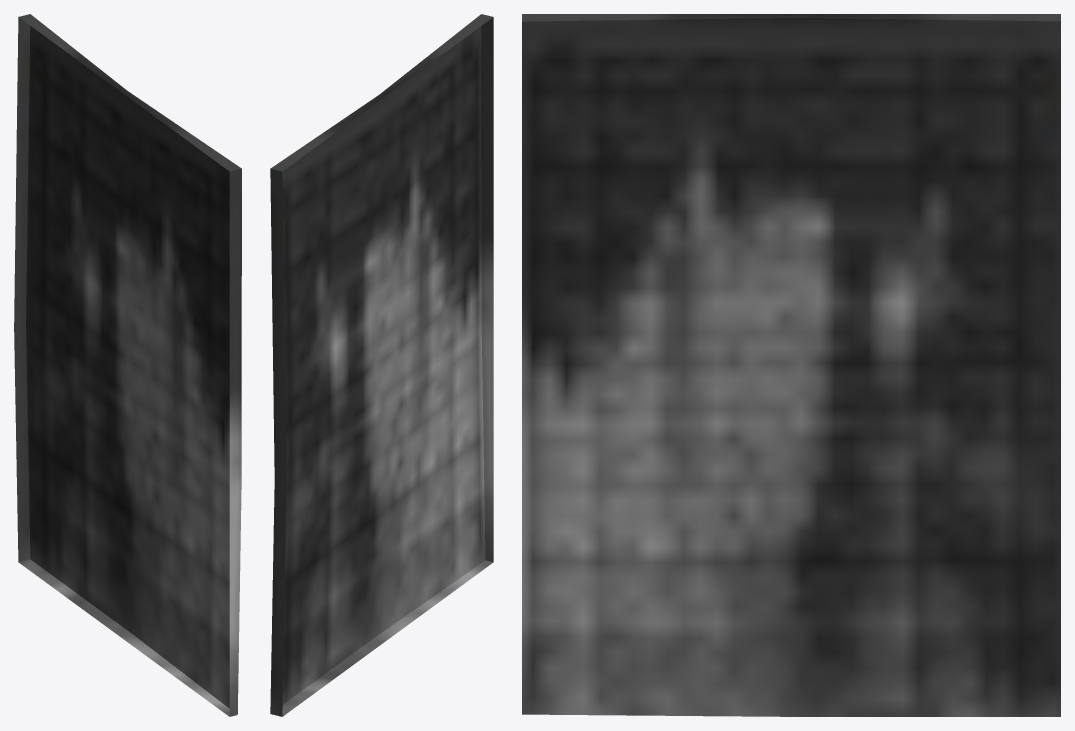
Rendered from Paper01.FBX.
3 views of the same model, side by side, from view 1: azimuth 30°, elevation 25°; view 2: azimuth 150°, elevation 25°; view 3: azimuth 270°, elevation 25° (orthographic). The views are drawn at different scales.
Parts seen in each view (by area): view 1: Paper01; view 2: Paper01; view 3: Paper01.
Boxes of the visible parts, x1,y1,x2,y2 form: Paper01: (14, 14, 241, 716); Paper01: (270, 14, 493, 716); Paper01: (522, 14, 1060, 716).
Bounding box in the file's own units: 1.02 × 32.01 × 22.47.
